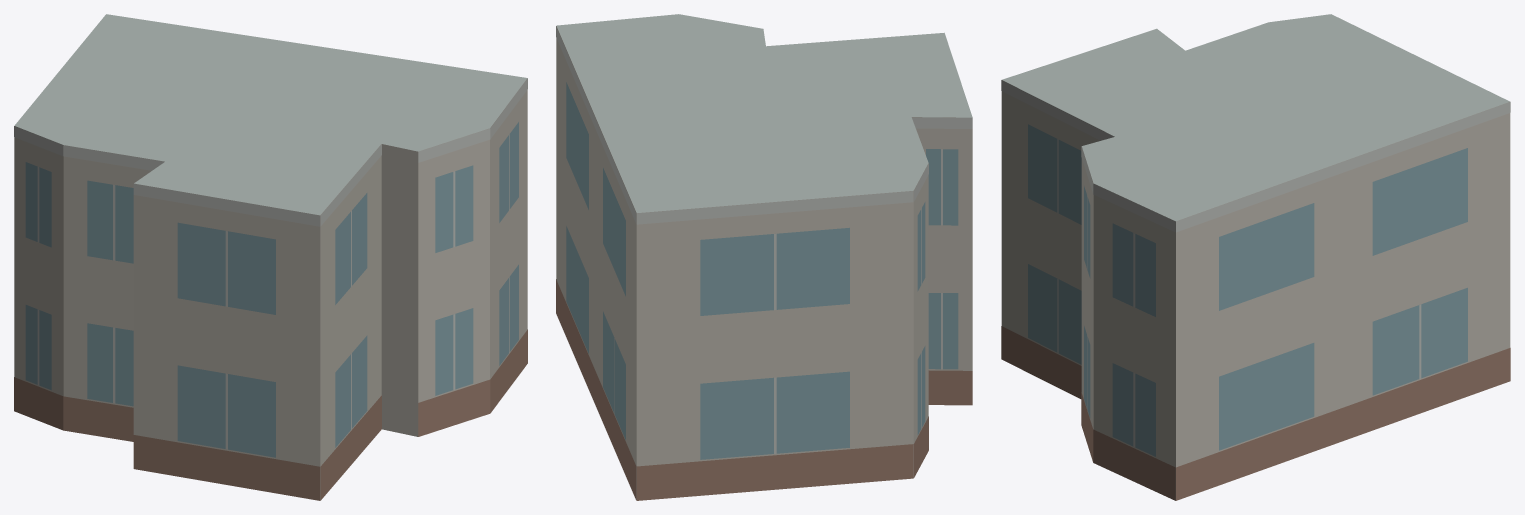
File: survey-upis-32710225.glb
The picture shows the model from 3 angles, left to right: view 1: azimuth 30°, elevation 25°; view 2: azimuth 150°, elevation 25°; view 3: azimuth 270°, elevation 25°; orthographic projection. The views are drawn at different scales.
Visible parts, largest first — view 1: survey-upis-32710225.tmp; view 2: survey-upis-32710225.tmp; view 3: survey-upis-32710225.tmp.
Boxes of the visible parts, x1,y1,x2,y2 form: survey-upis-32710225.tmp: (14,14,527,500); survey-upis-32710225.tmp: (556,14,972,500); survey-upis-32710225.tmp: (1001,14,1510,500).
Size of the model in its own units: 9.71 by 6.1 by 10.07.
